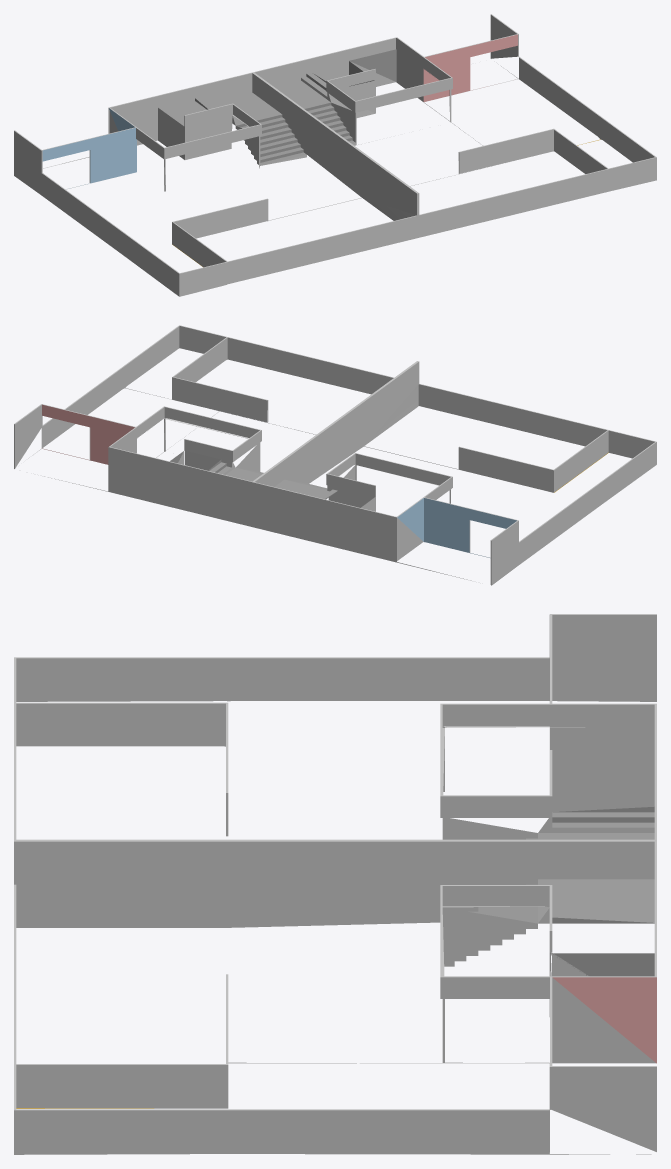
Rendered from wall.dae.
3 views of the same model, one above another, from view 1: azimuth 30°, elevation 25°; view 2: azimuth 150°, elevation 25°; view 3: azimuth 270°, elevation 25° (orthographic). The views are drawn at different scales.
Parts seen in each view (by area): view 1: world; view 2: world; view 3: world.
Part boxes in pixels (left/top/right/bottom): world: left=14, top=14, right=656, bottom=296; world: left=14, top=325, right=656, bottom=585; world: left=14, top=614, right=656, bottom=1154.
Size of the model in its own units: 9 by 5.4 by 0.814.
